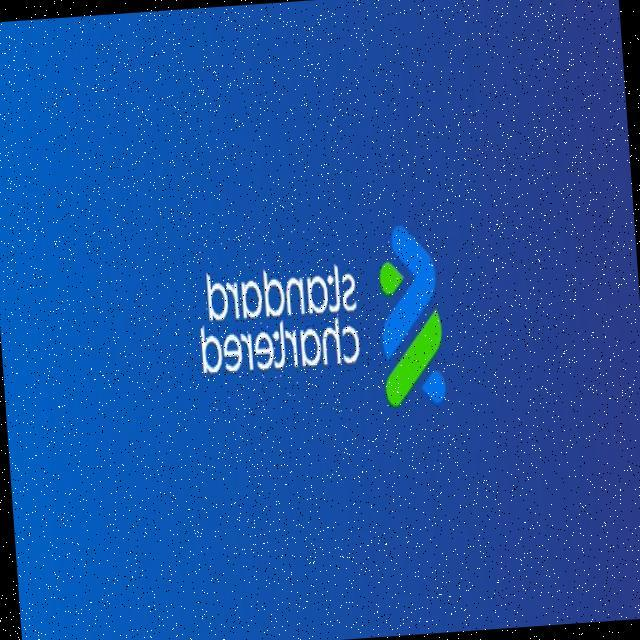Standard Chartered: (192, 219, 449, 423)
